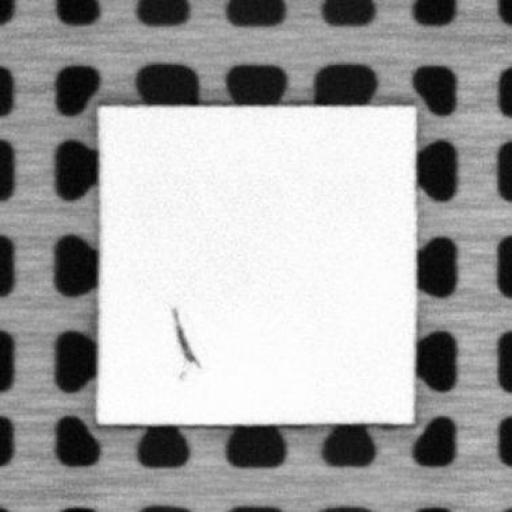DIE_INK: (167, 304, 199, 381)
